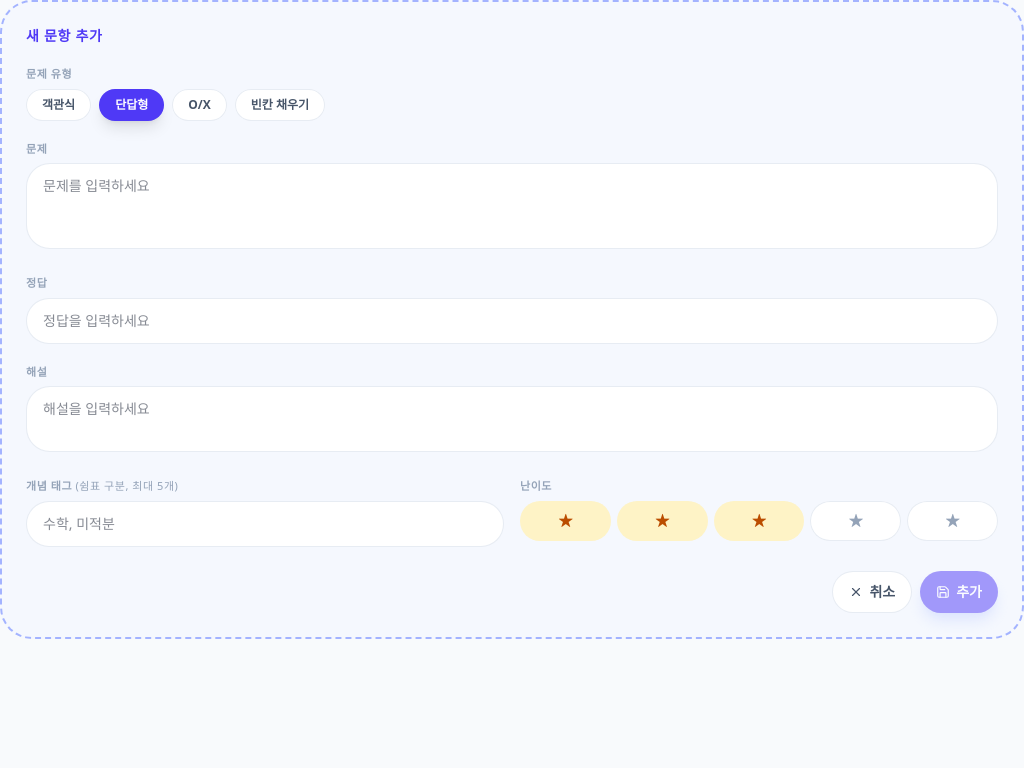
Test: QuizItemCreateForm › shows 보기 추가 button for MCQ and can add option
Click the button "객관식" at (59, 104), box [26,88,91,120]
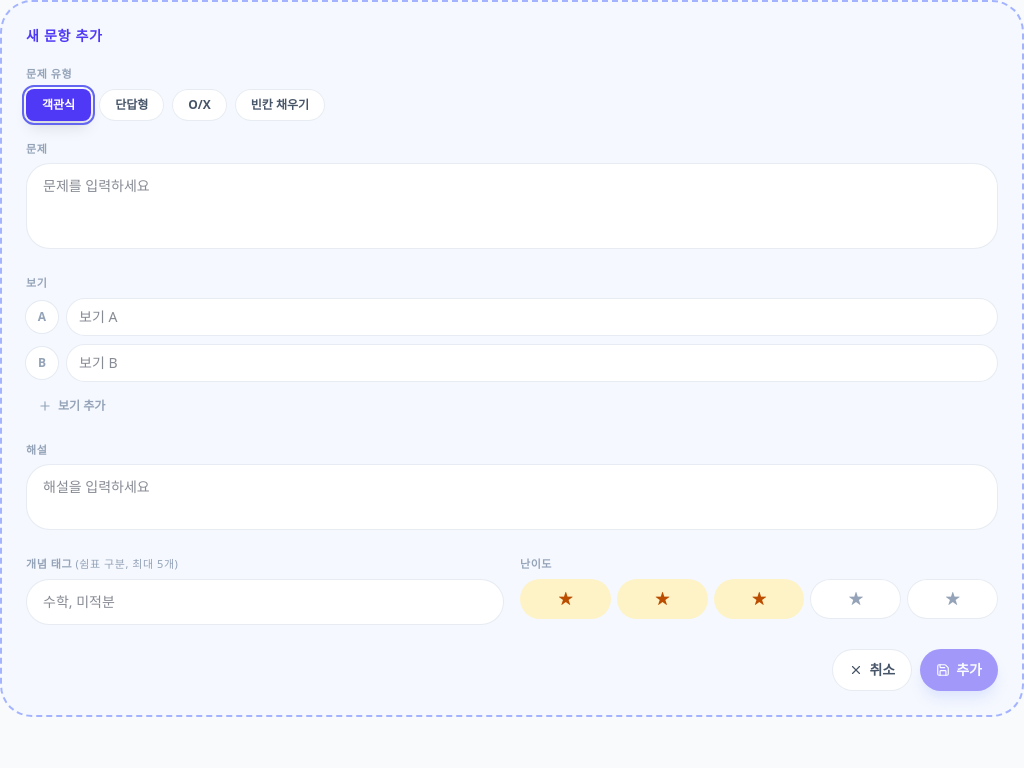
Click the button "보기 추가" at (72, 406), box [26,390,117,422]
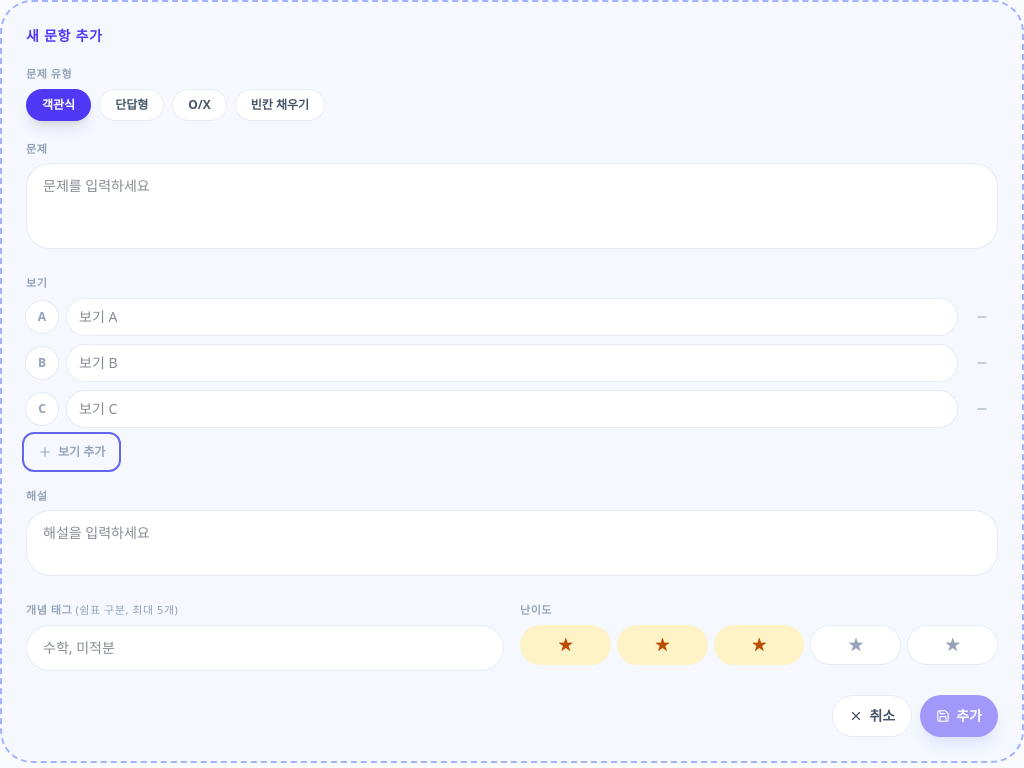
Result: the field with placeholder "보기 C" is shown at [66,390,958,428]
